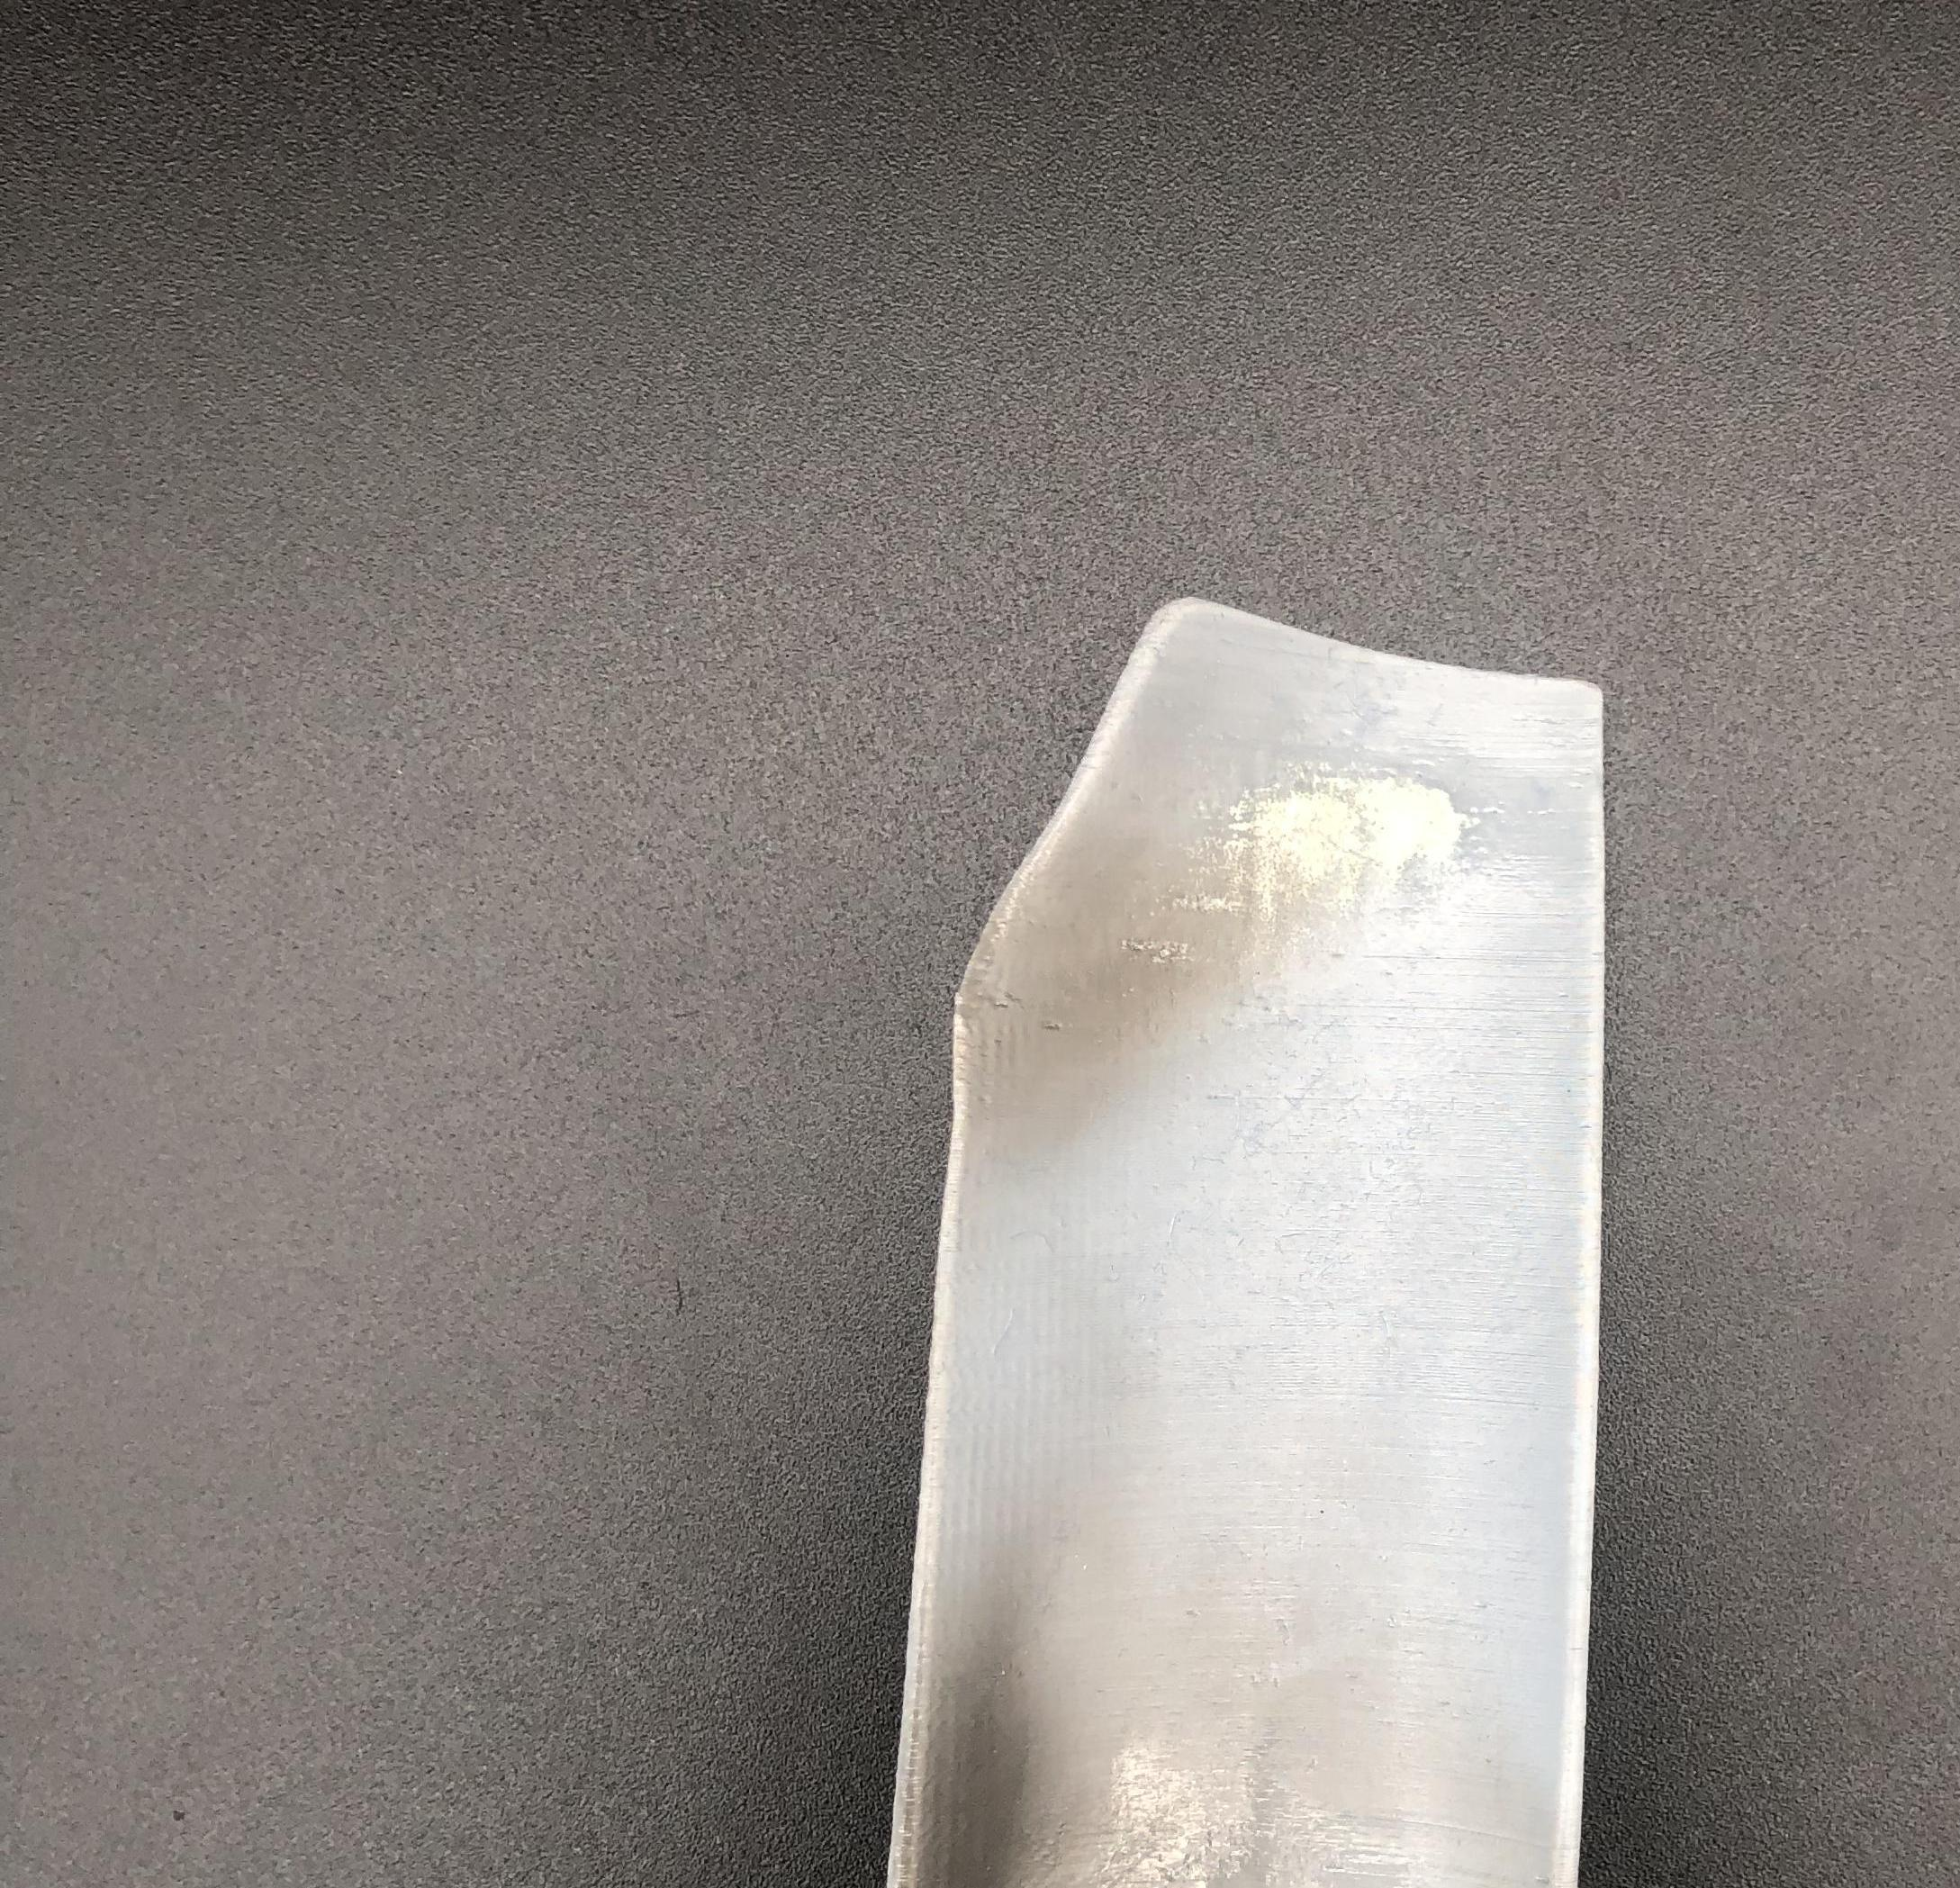ablation: (931, 1662, 1529, 1888), (1026, 836, 1291, 1101)
